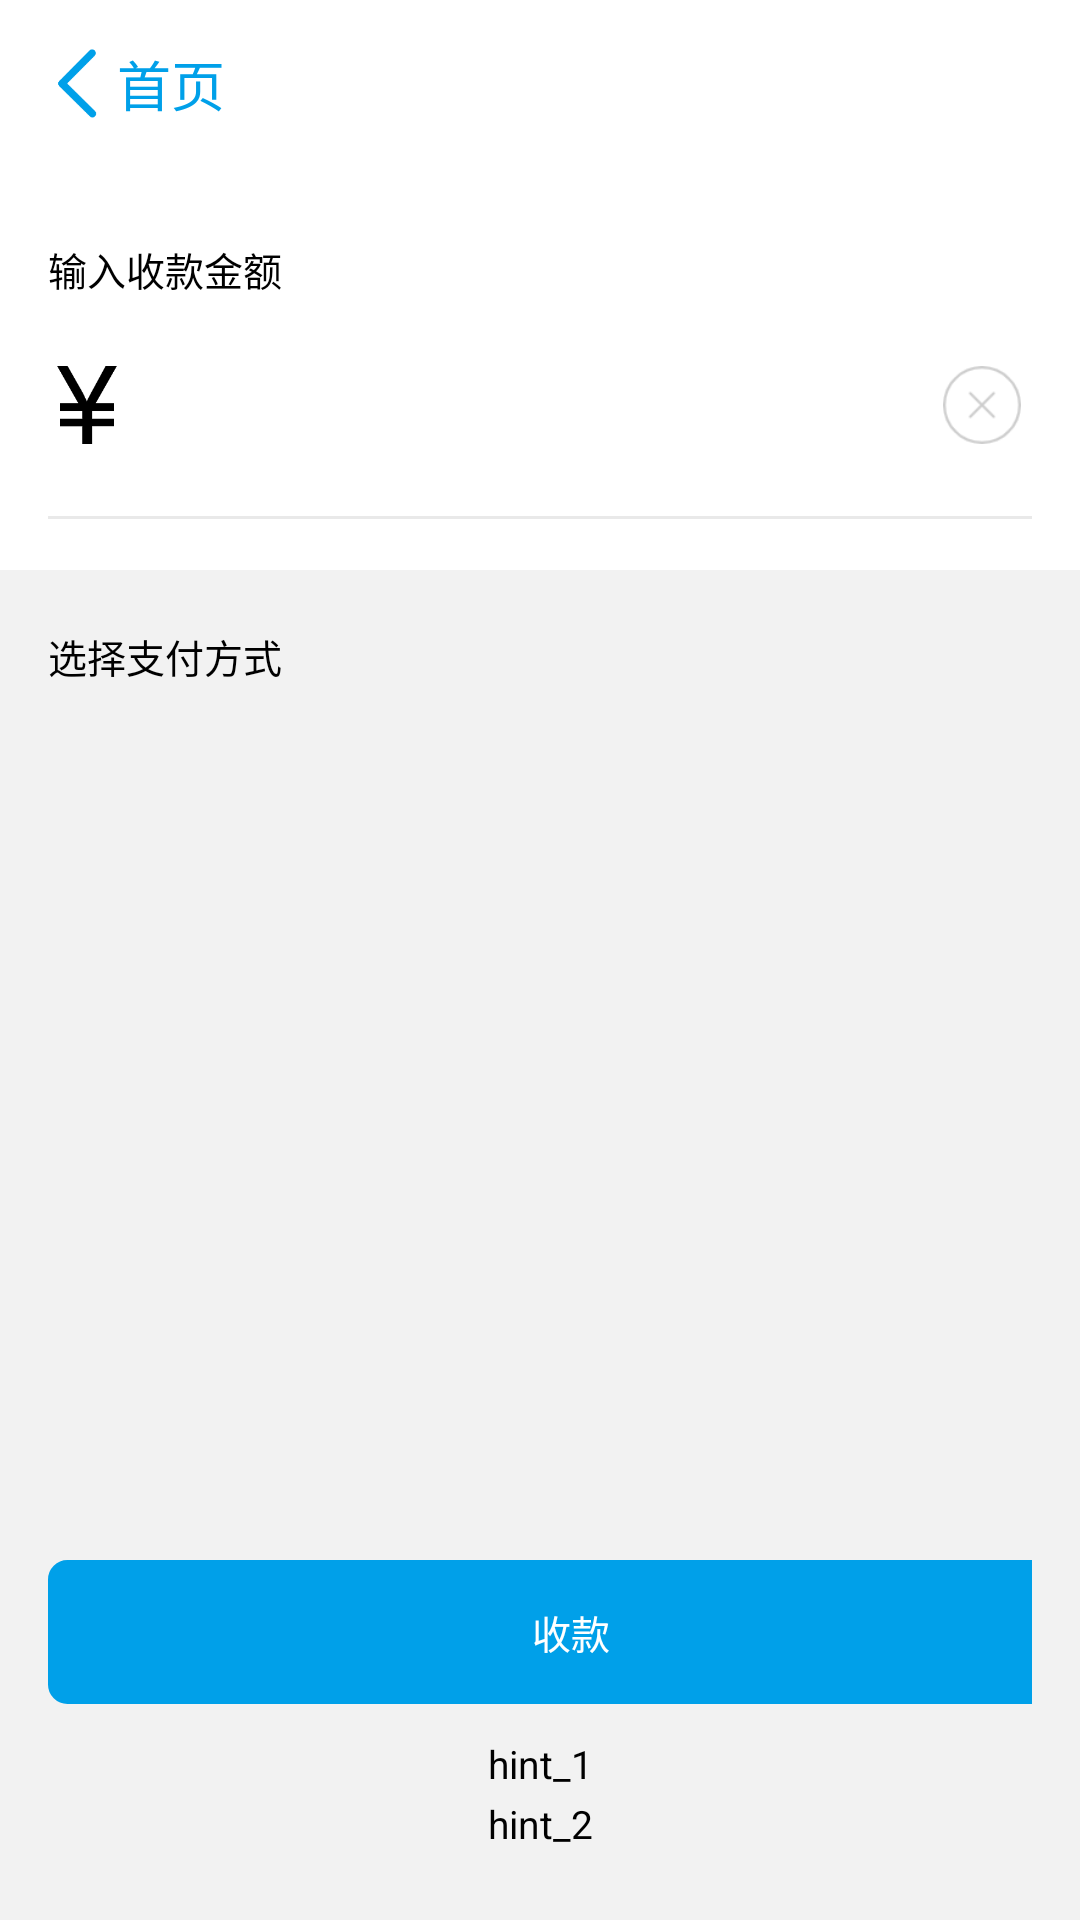

Named icons in this screenshot (1080w x 1920h) and their bounding boxes, (x1, y1, x2, y2):
back: (58, 49, 97, 118)
close: (943, 366, 1021, 444)
